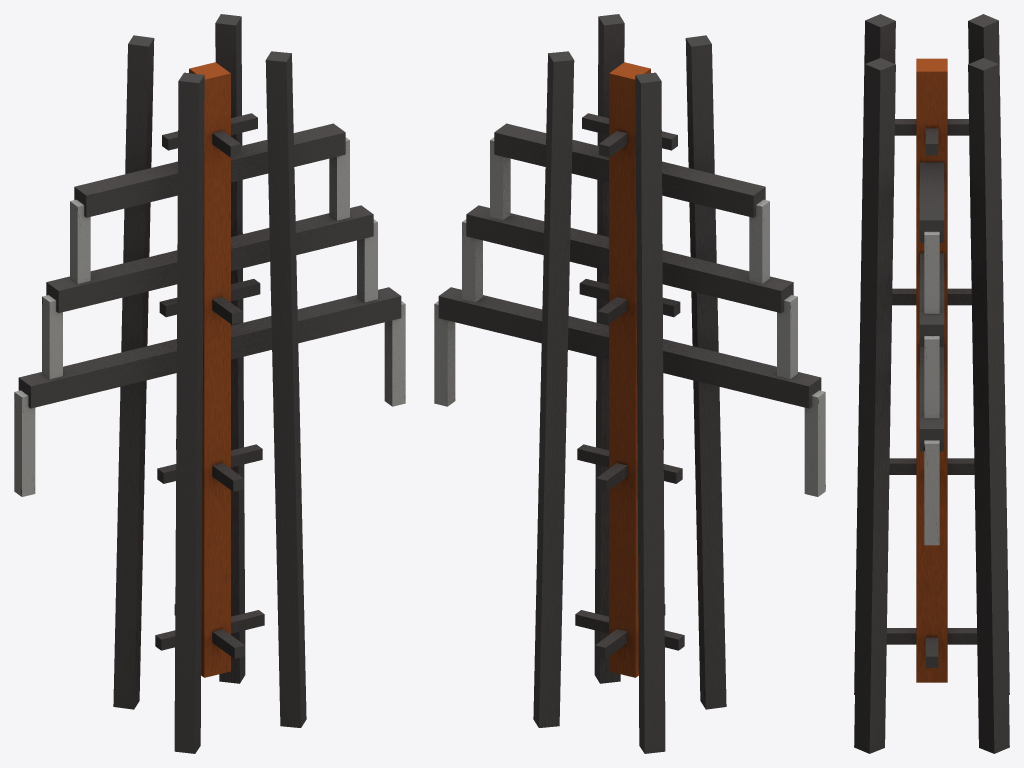
Rendered from pylon_1_kiln.glb.
3 renders of one model, left to right at view 1: azimuth 30°, elevation 25°; view 2: azimuth 150°, elevation 25°; view 3: azimuth 270°, elevation 25°, orthographic. The views are drawn at different scales.
Parts seen in each view (by area): view 1: Cube; view 2: Cube; view 3: Cube.
Part boxes in pixels (bbox=[...]): Cube: bbox=[14, 14, 405, 753]; Cube: bbox=[434, 14, 825, 753]; Cube: bbox=[854, 14, 1009, 753].
Size of the model in its own units: 7.25 by 12.01 by 2.49.
1 material, 1 textured.
